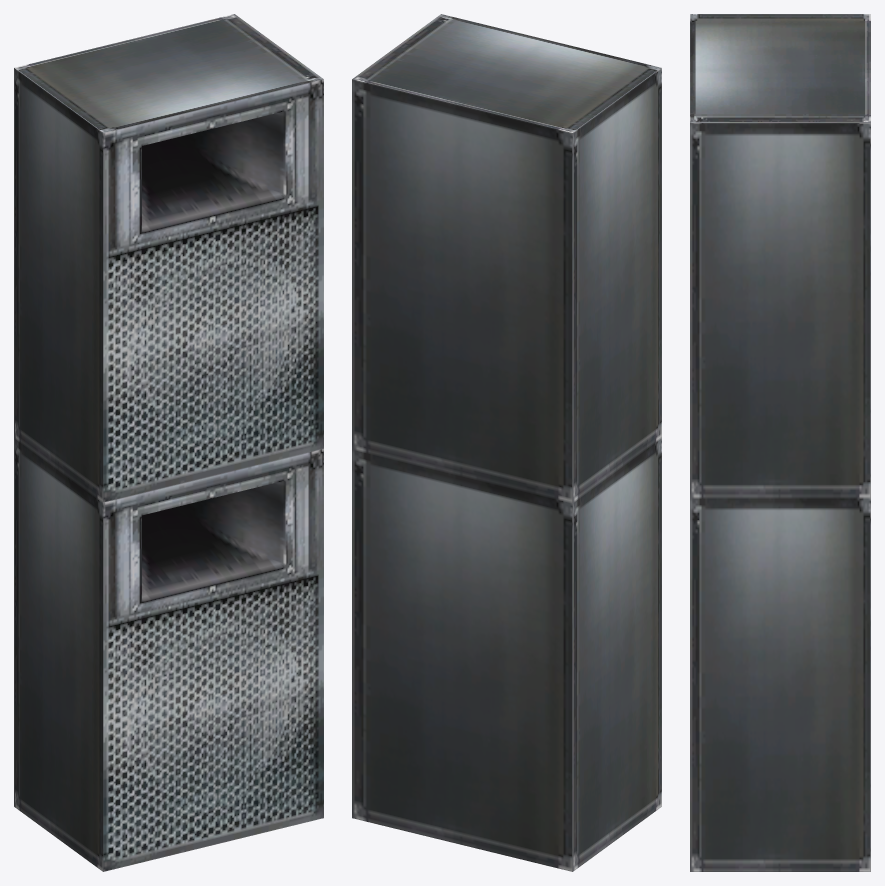
The model's file is speaker_metal_3m.fbx.
3 renders of one model, left to right at view 1: azimuth 30°, elevation 25°; view 2: azimuth 150°, elevation 25°; view 3: azimuth 270°, elevation 25°, orthographic.
Visible parts, largest first — view 1: mesh_0; view 2: mesh_0; view 3: mesh_0.
Part boxes in pixels (bbox=[...]): mesh_0: bbox=[14, 14, 323, 871]; mesh_0: bbox=[352, 14, 661, 871]; mesh_0: bbox=[690, 14, 870, 871].
Size of the model in its own units: 100 by 320 by 70.
Materials: 1 (1 with a texture image).
